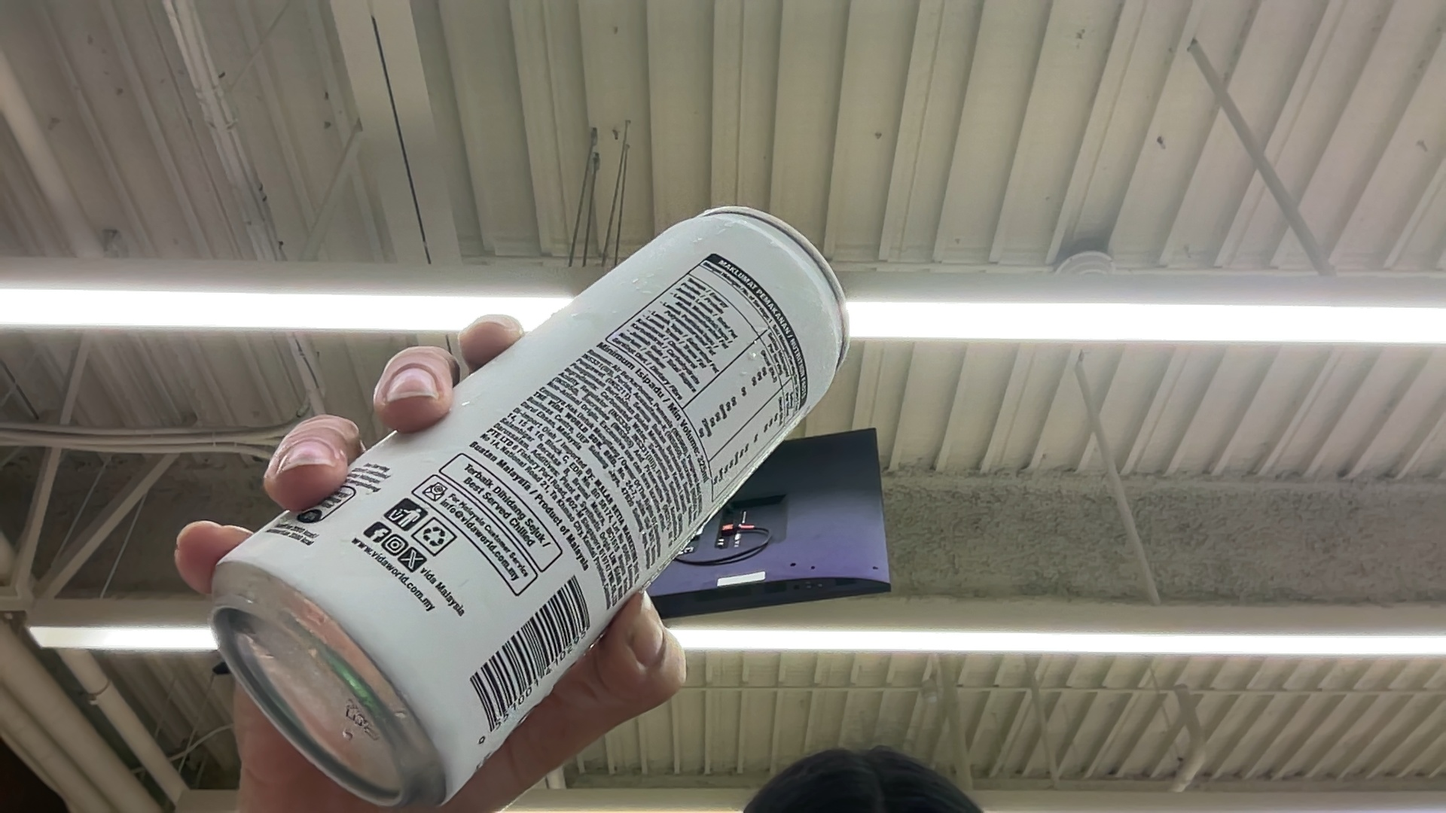Metal: (21, 177, 928, 811)
